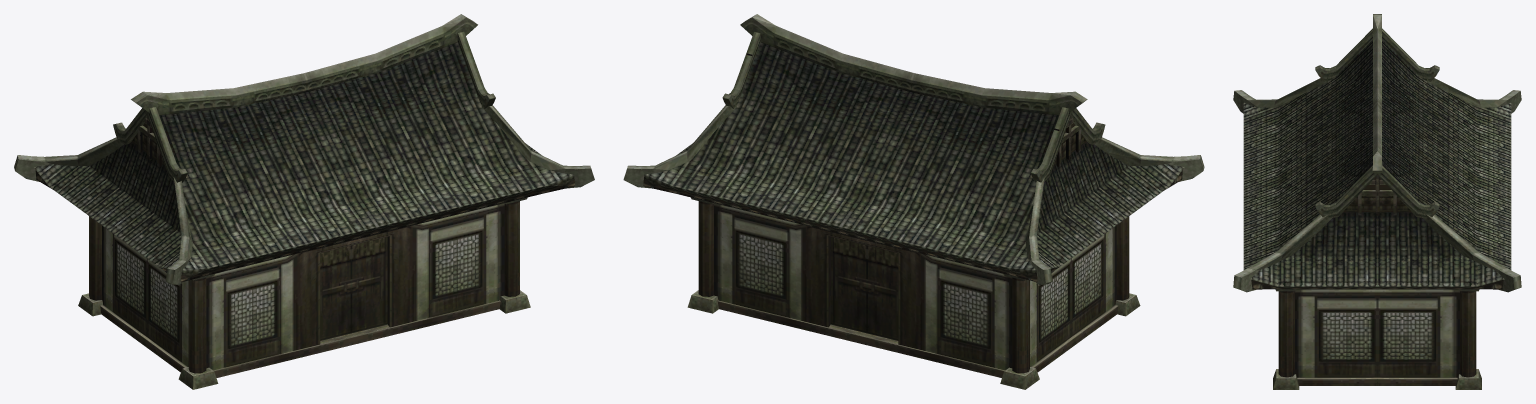
The model's file is ob-10-04-house02.glb.
3 views of the same model, side by side, from view 1: azimuth 30°, elevation 25°; view 2: azimuth 150°, elevation 25°; view 3: azimuth 270°, elevation 25° (orthographic). The views are drawn at different scales.
Parts seen in each view (by area): view 1: Object01; view 2: Object01; view 3: Object01.
Boxes of the visible parts, left/top/right/bottom form: Object01: left=14, top=14, right=594, bottom=389; Object01: left=623, top=14, right=1204, bottom=389; Object01: left=1233, top=14, right=1521, bottom=389.
Size of the model in its own units: 13.77 by 7.74 by 8.82.
1 material, 1 textured.
